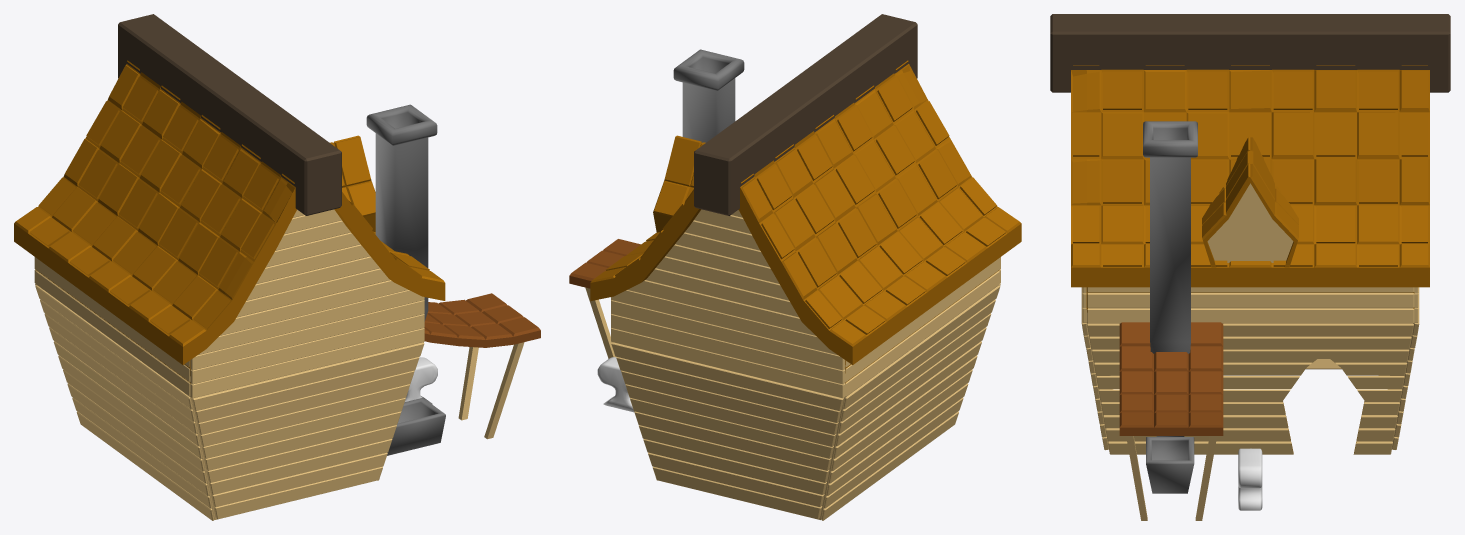
The model's file is steel_deposit.fbx.
3 views of the same model, side by side, from view 1: azimuth 30°, elevation 25°; view 2: azimuth 150°, elevation 25°; view 3: azimuth 270°, elevation 25° (orthographic). The views are drawn at different scales.
Parts seen in each view (by area): view 1: Depo; view 2: Depo; view 3: Depo.
Boxes of the visible parts, x1,y1,x2,y2 form: Depo: [14, 14, 540, 520]; Depo: [569, 14, 1021, 520]; Depo: [1050, 14, 1450, 520].
Bounding box in the file's own units: 11.41 × 10.49 × 9.79.
